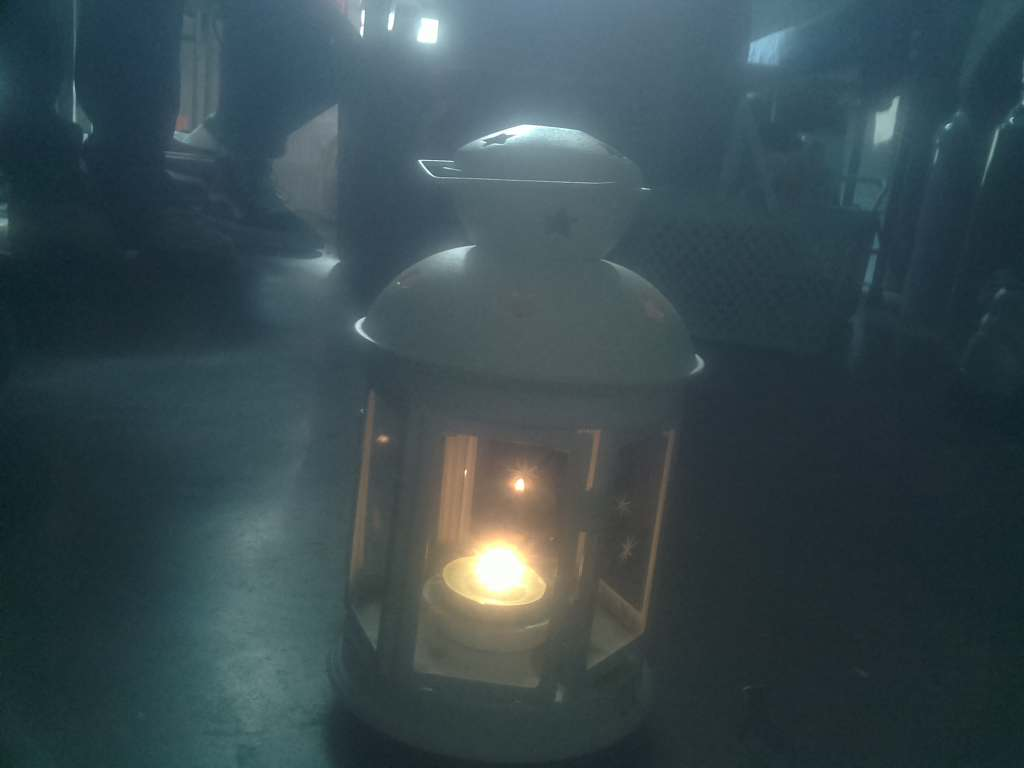fire: (423, 522, 570, 633)
